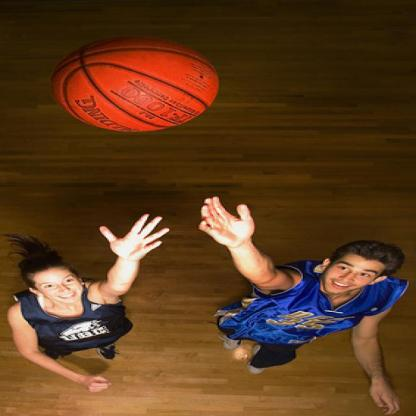basketball: (49, 34, 218, 134)
